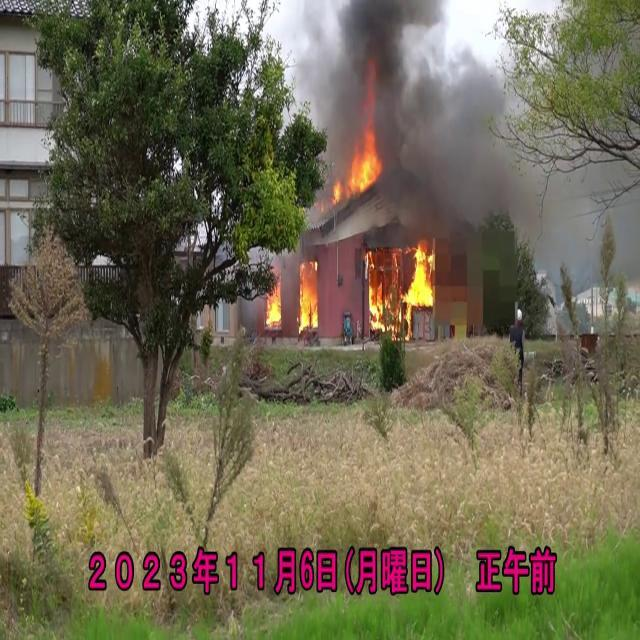Fire: (365, 238, 440, 332), (330, 124, 384, 210), (264, 258, 320, 336)
Smoke: (383, 29, 553, 251), (316, 0, 454, 148)
